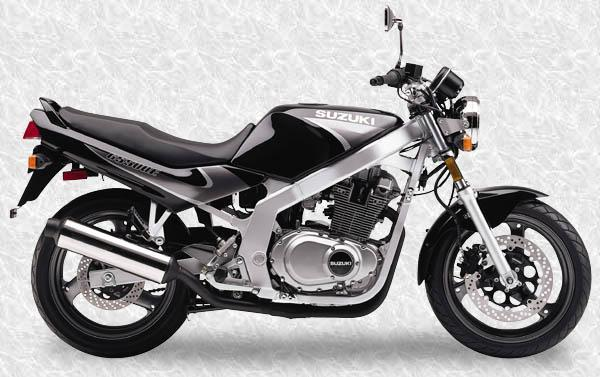motorcycle: (7, 1, 599, 363)
